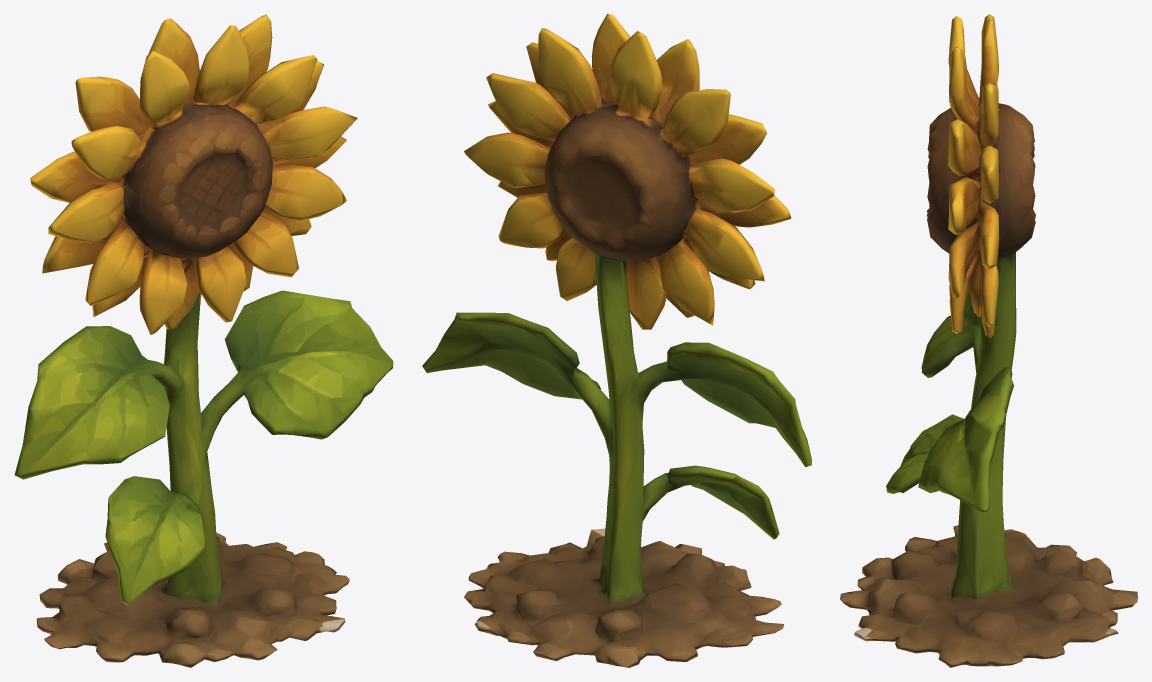
The model's file is sunflower.glb.
3 renders of one model, left to right at view 1: azimuth 30°, elevation 25°; view 2: azimuth 150°, elevation 25°; view 3: azimuth 270°, elevation 25°, orthographic. The views are drawn at different scales.
Visible parts, largest first — view 1: tripo_node_05673537-d39d-4fbb-ad79-18be647b5b9d; view 2: tripo_node_05673537-d39d-4fbb-ad79-18be647b5b9d; view 3: tripo_node_05673537-d39d-4fbb-ad79-18be647b5b9d.
Part boxes in pixels (box(x1,y1,x2,y2)): tripo_node_05673537-d39d-4fbb-ad79-18be647b5b9d: box(14, 14, 393, 667); tripo_node_05673537-d39d-4fbb-ad79-18be647b5b9d: box(422, 14, 811, 667); tripo_node_05673537-d39d-4fbb-ad79-18be647b5b9d: box(840, 14, 1137, 667).
Bounding box in the file's own units: 0.6867 × 1 × 0.4699.
Materials: 1 (1 with a texture image).
